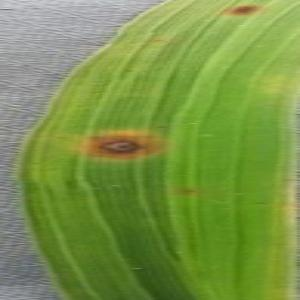Brown_Spot: (76, 124, 167, 168), (220, 1, 266, 22), (171, 184, 201, 201), (146, 33, 169, 47), (119, 64, 137, 78), (249, 197, 268, 210)
